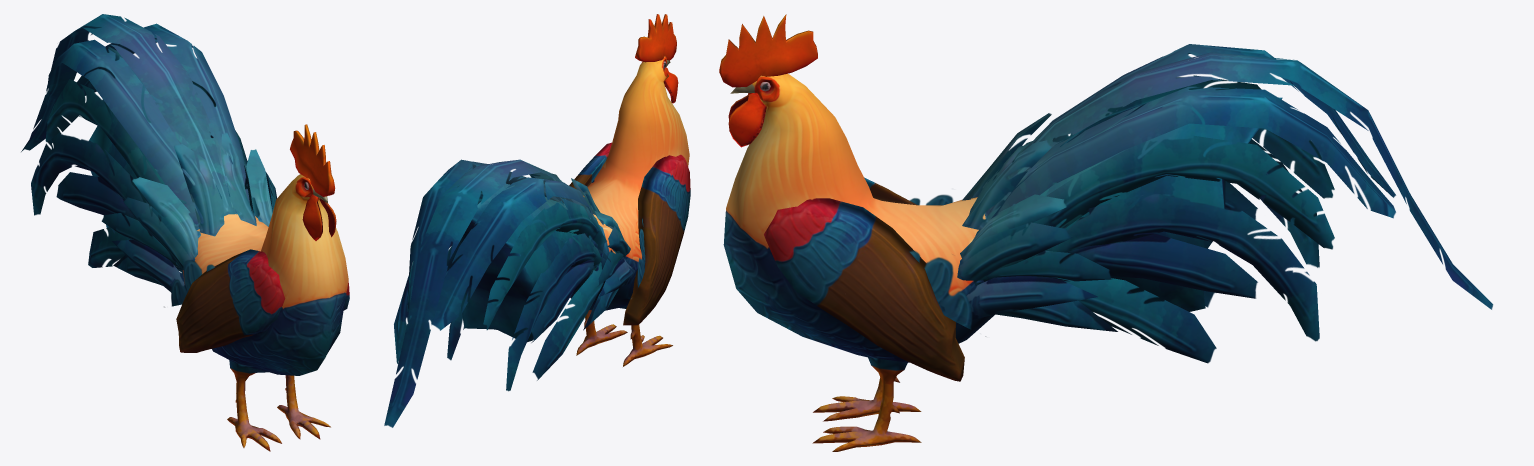
Rendered from rooster.glb.
3 views of the same model, side by side, from view 1: azimuth 30°, elevation 25°; view 2: azimuth 150°, elevation 25°; view 3: azimuth 270°, elevation 25° (orthographic). The views are drawn at different scales.
Visible parts, largest first — view 1: Rooster; view 2: Rooster; view 3: Rooster.
Boxes of the visible parts, x1,y1,x2,y2 form: Rooster: (21,14,349,451); Rooster: (384,14,690,427); Rooster: (719,14,1493,451).
Size of the model in its own units: 116 by 242 by 424.
Materials: 1 (1 with a texture image).
